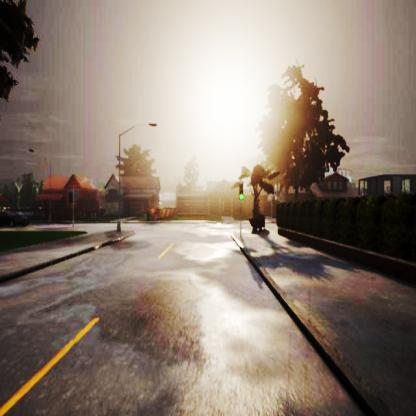vehicle: (0, 208, 29, 227)
